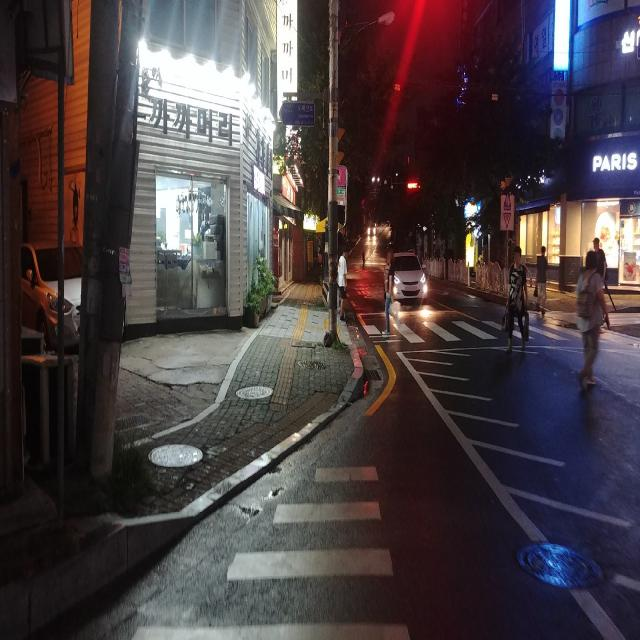횡단보도: (128, 462, 411, 640), (364, 303, 589, 350)
